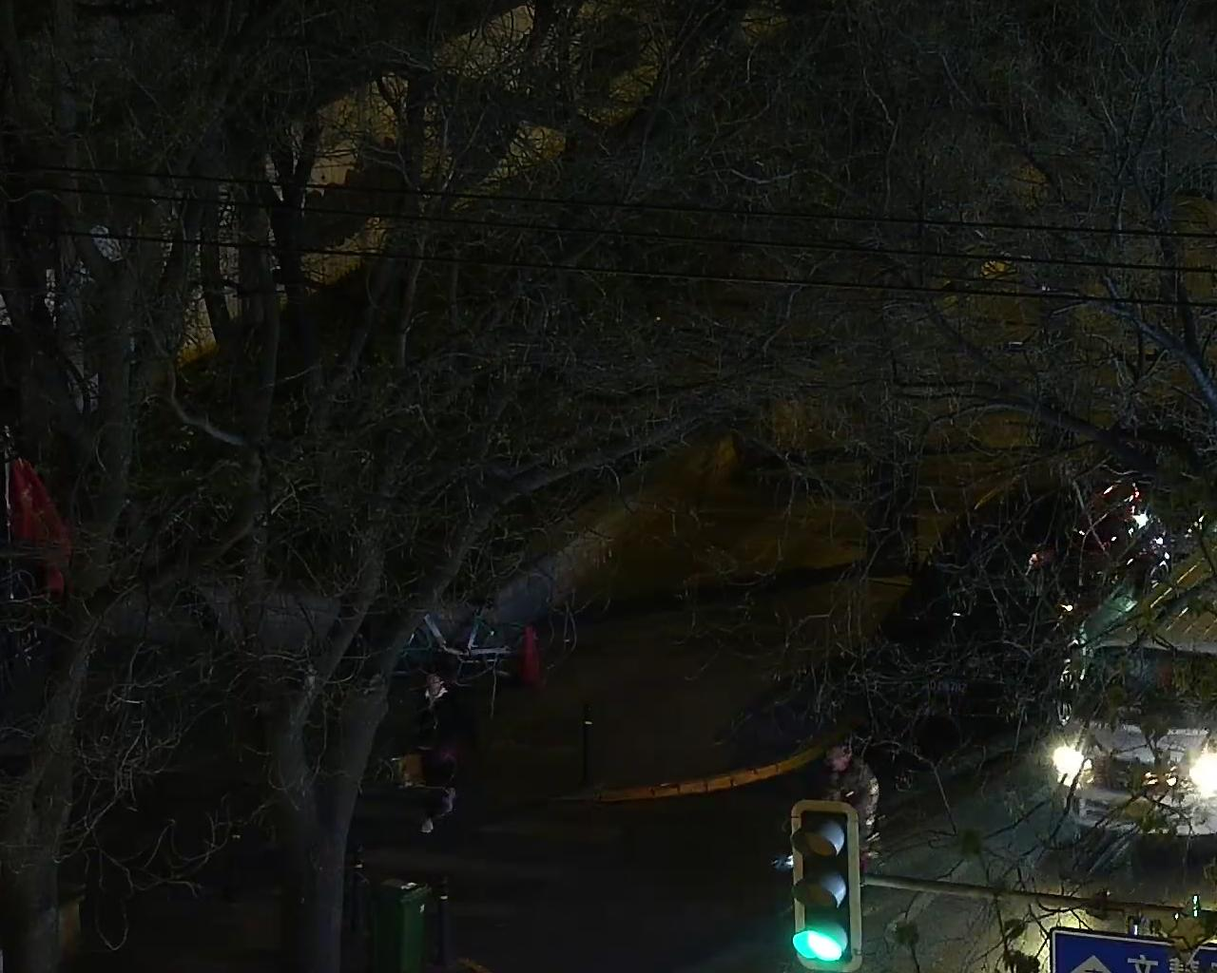person: (411, 661, 476, 834), (804, 745, 874, 808)
